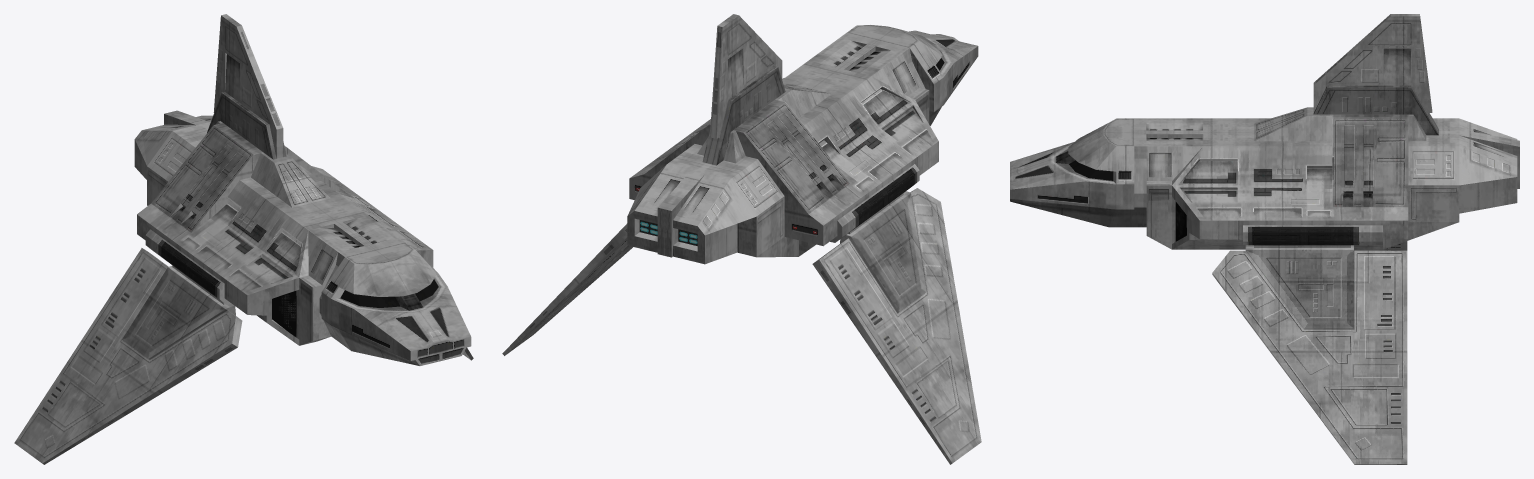
The model's file is Ministry_Shuttle.obj.
3 renders of one model, left to right at view 1: azimuth 30°, elevation 25°; view 2: azimuth 150°, elevation 25°; view 3: azimuth 270°, elevation 25°, orthographic. The views are drawn at different scales.
Visible parts, largest first — view 1: Hull; view 2: Hull; view 3: Hull.
Part boxes in pixels (x1,y1,x2,y2): Hull: [14, 14, 473, 464]; Hull: [502, 14, 981, 464]; Hull: [1010, 14, 1519, 464].
Size of the model in its own units: 113 by 93.49 by 123.
